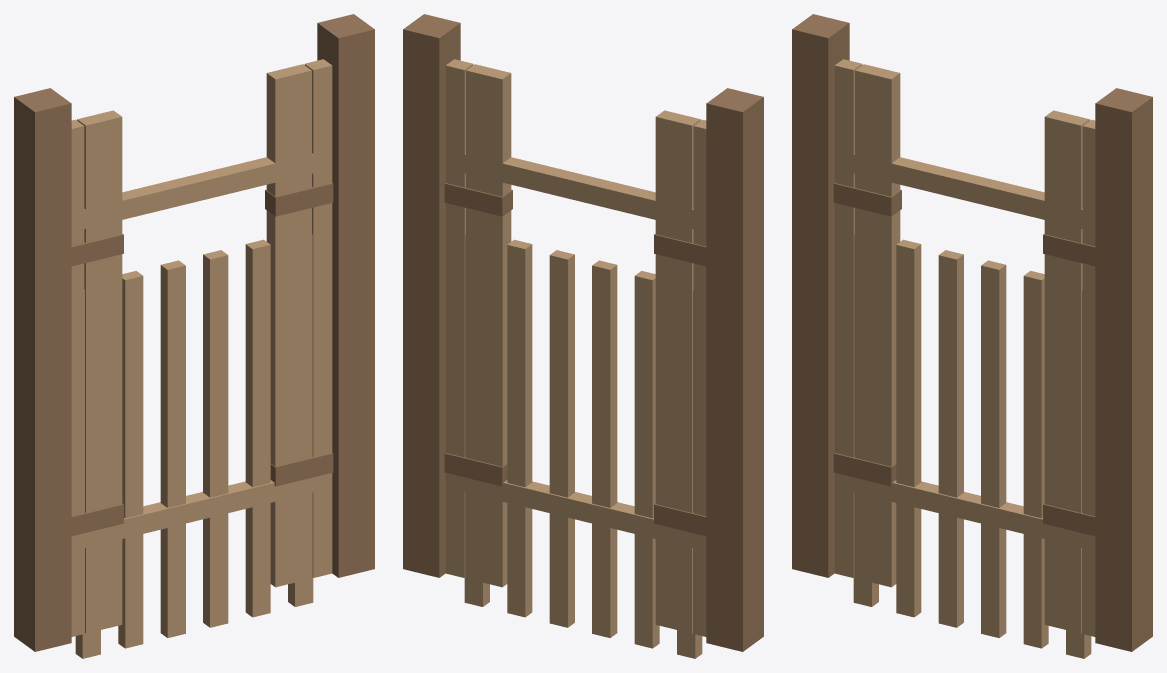
The model's file is fence_wood_gate.glb.
The picture shows the model from 3 angles, left to right: view 1: azimuth 30°, elevation 25°; view 2: azimuth 150°, elevation 25°; view 3: azimuth 330°, elevation 25°; orthographic projection.
Parts seen in each view (by area): view 1: fence, gate_leaf; view 2: fence, gate_leaf; view 3: fence, gate_leaf.
Boxes of the visible parts, <box> form: fence: <box>14,14,374,651</box>; gate_leaf: <box>71,153,313,658</box>; fence: <box>403,14,763,651</box>; gate_leaf: <box>452,151,705,658</box>; fence: <box>792,14,1152,651</box>; gate_leaf: <box>841,151,1094,658</box>.
Bounding box in the file's own units: 1.12 × 1.78 × 0.12.
